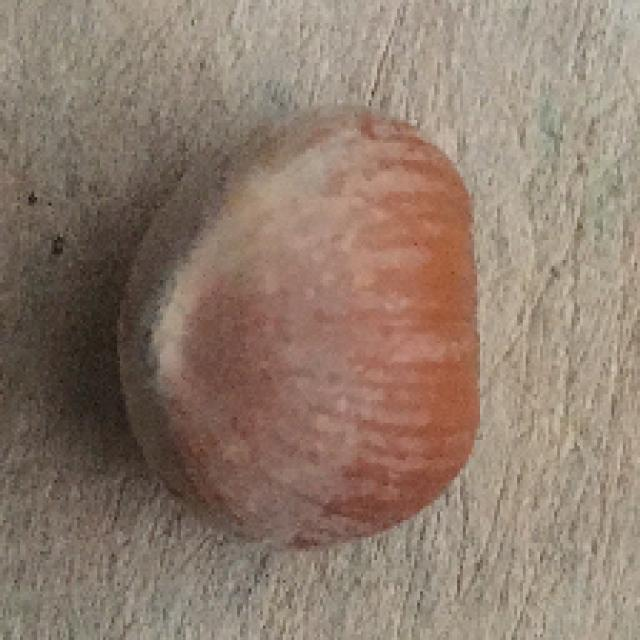QualityHazelnut: (116, 97, 483, 550)
